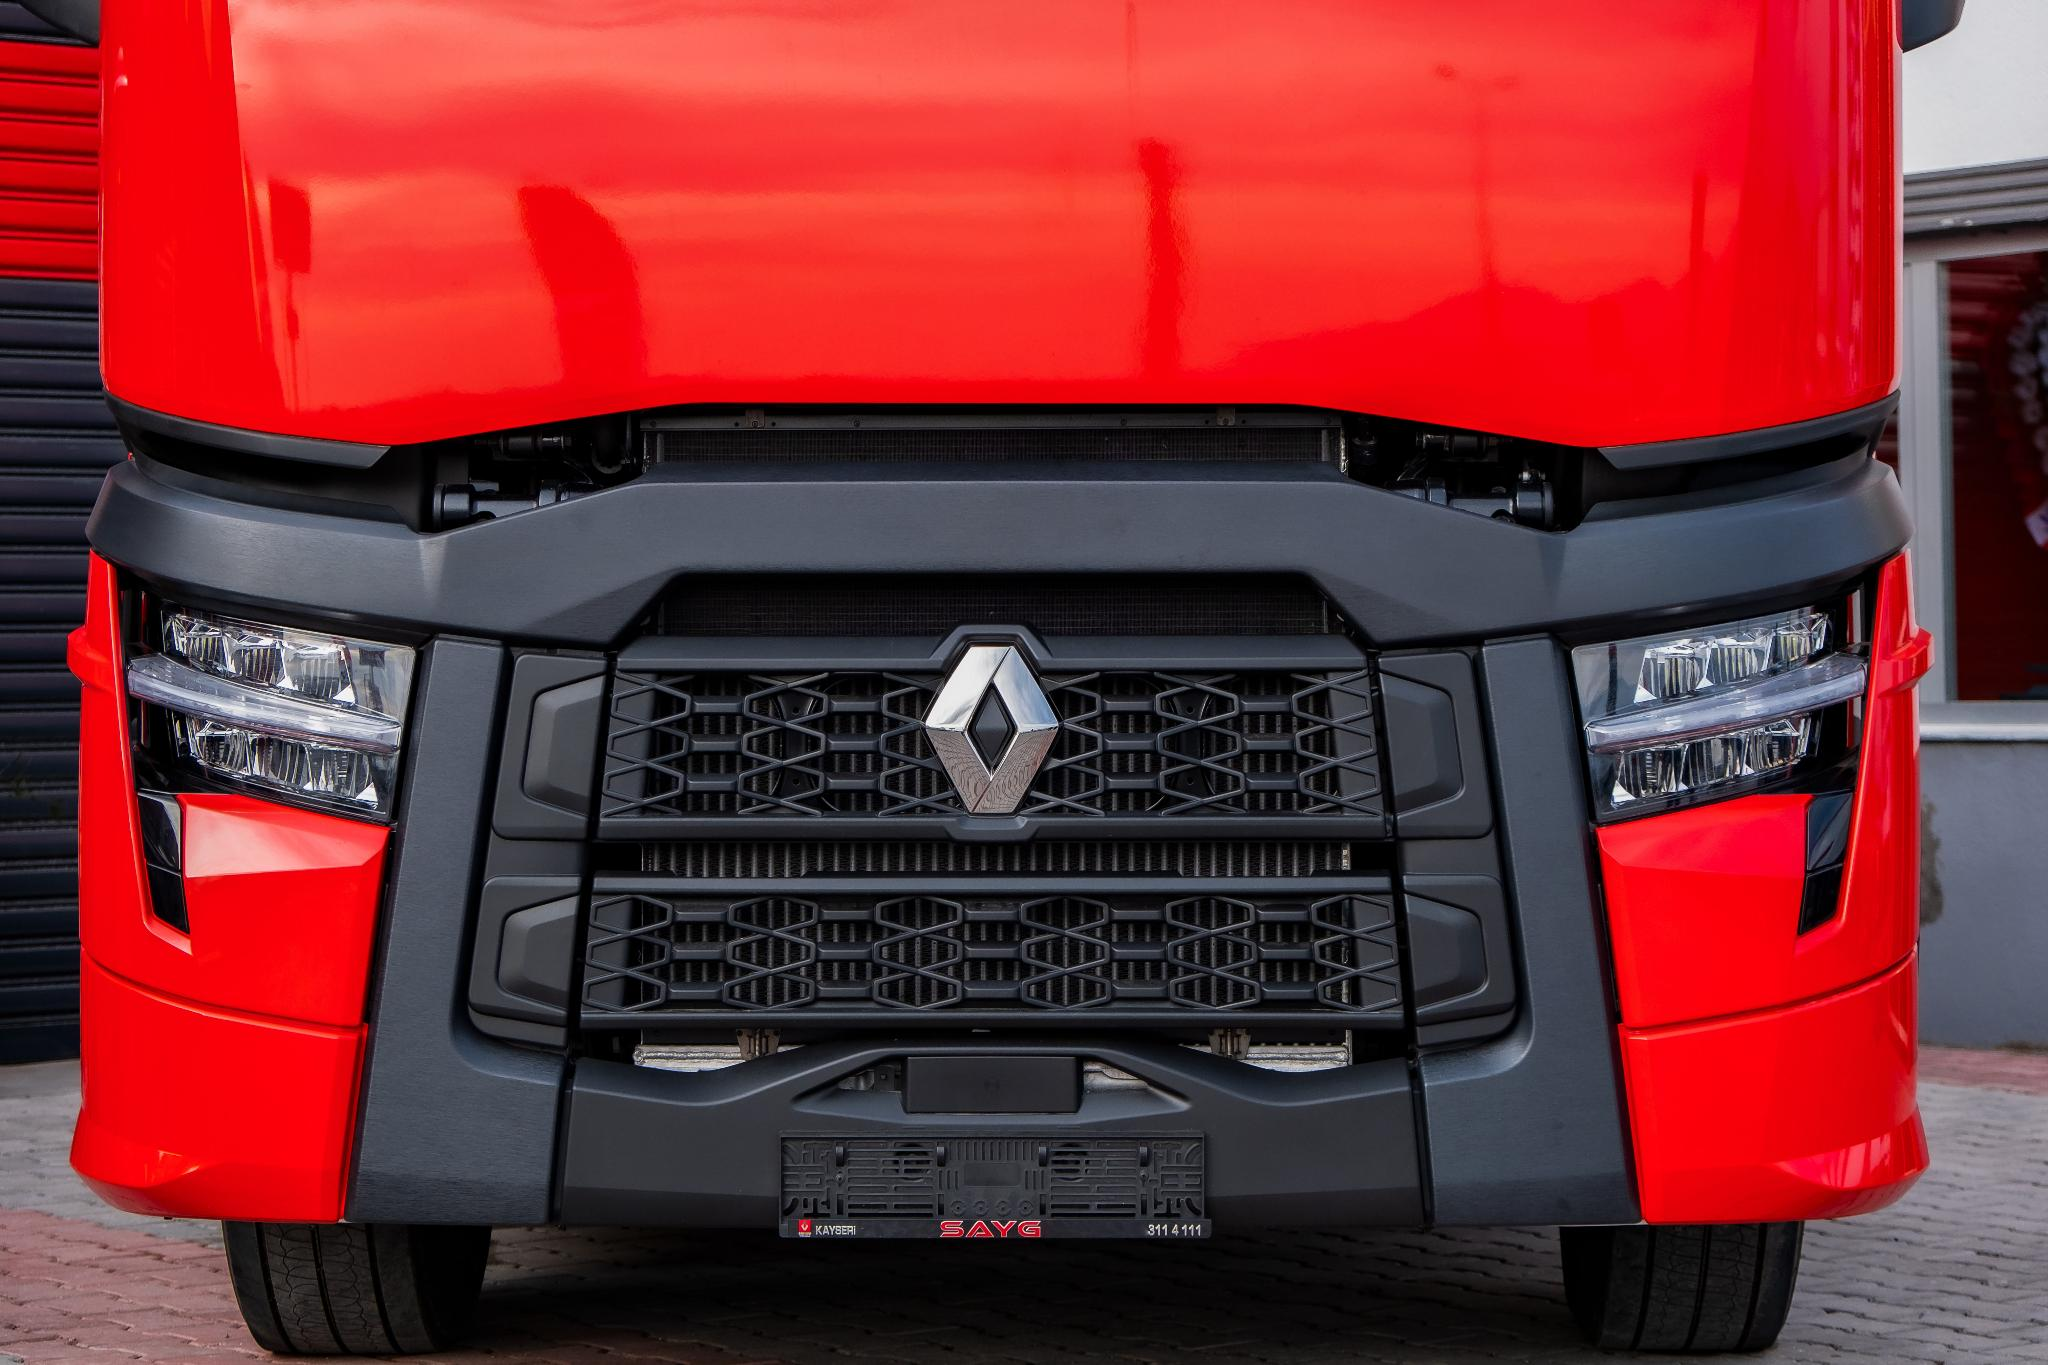Renault: (882, 602, 1116, 874)
